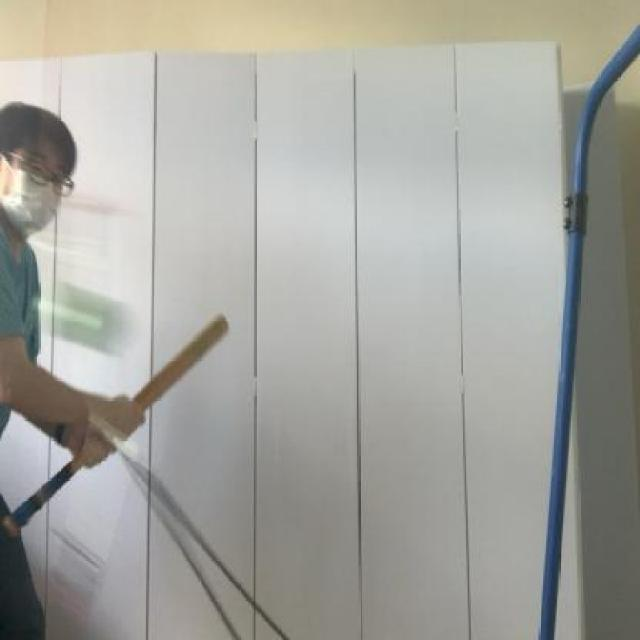baseball: (38, 268, 140, 362)
